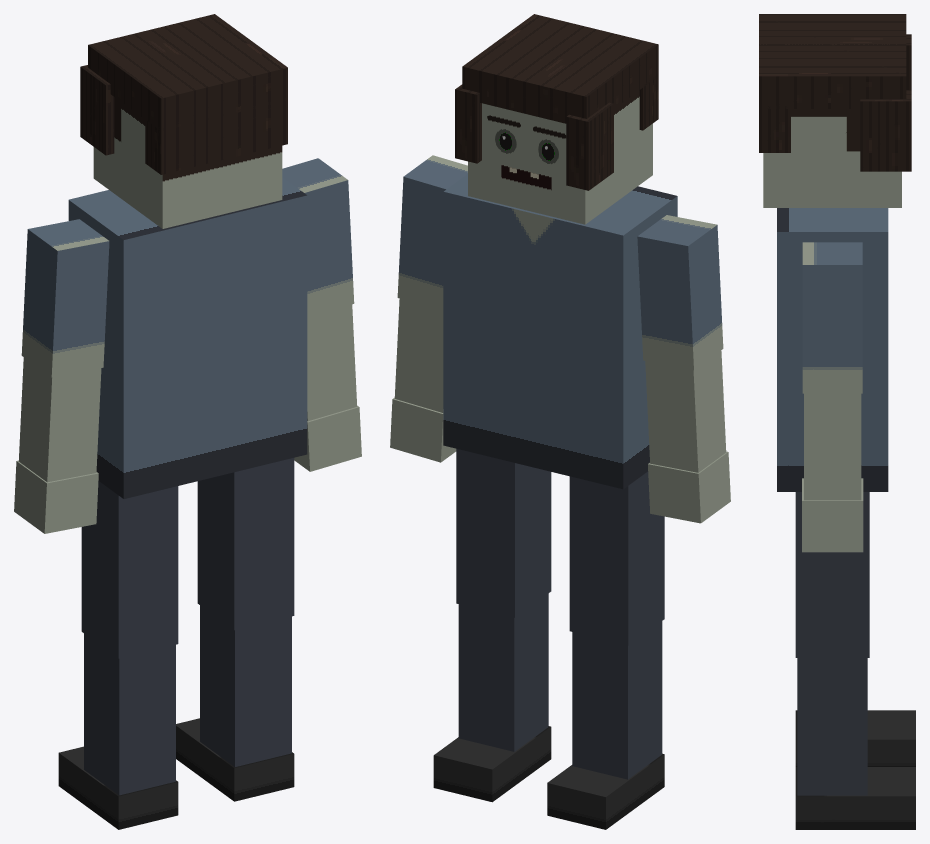
Rendered from hair_curtains.glb.
The picture shows the model from 3 angles, left to right: view 1: azimuth 30°, elevation 25°; view 2: azimuth 150°, elevation 25°; view 3: azimuth 270°, elevation 25°; orthographic projection. The views are drawn at different scales.
Parts seen in each view (by area): view 1: block_torso, block_hair-cap, block_thigh.L, block_thigh.R, block_shin.L, block_shin.R, block_upper_arm.L, block_head, block_forearm.L, block_upper_arm.R, block_hair-back, block_forearm.R (+5 smaller); view 2: block_torso, block_hair-cap, block_thigh.L, block_thigh.R, block_head, block_shin.R, block_shin.L, block_upper_arm.L, block_forearm.L, block_upper_arm.R, block_hair-curtain (×2), block_foot.R (+5 smaller); view 3: block_torso, block_hair-cap, block_head, block_shin.R, block_upper_arm.R, block_thigh.R, block_forearm.R, block_foot.R, block_hair-curtain (×2), block_hand.R, block_foot.L, block_hair-back.
Part boxes in pixels (<box>): block_torso: <box>68,177,307,498</box>; block_hair-cap: <box>88,14,287,130</box>; block_thigh.L: <box>81,481,178,658</box>; block_thigh.R: <box>197,458,294,630</box>; block_shin.L: <box>84,633,175,795</box>; block_shin.R: <box>200,605,291,766</box>; block_upper_arm.L: <box>21,219,109,377</box>; block_head: <box>93,97,282,228</box>; block_forearm.L: <box>18,357,101,482</box>; block_upper_arm.R: <box>282,158,354,317</box>; block_hair-back: <box>145,98,287,174</box>; block_forearm.R: <box>307,304,357,421</box>; block_torso: <box>443,174,677,489</box>; block_hair-cap: <box>462,14,658,123</box>; block_thigh.L: <box>569,471,664,645</box>; block_thigh.R: <box>456,448,551,617</box>; block_head: <box>468,90,652,224</box>; block_shin.R: <box>458,593,548,751</box>; block_shin.L: <box>572,621,662,779</box>; block_upper_arm.L: <box>637,215,723,369</box>; block_forearm.L: <box>645,350,726,472</box>; block_upper_arm.R: <box>397,155,467,311</box>; block_hair-curtain (×2): <box>455,84,613,190</box>; block_foot.R: <box>433,726,551,802</box>; block_torso: <box>777,208,888,491</box>; block_hair-cap: <box>759,14,906,108</box>; block_head: <box>763,109,901,207</box>; block_shin.R: <box>797,658,867,795</box>; block_upper_arm.R: <box>802,242,862,393</box>; block_thigh.R: <box>795,492,869,657</box>; block_forearm.R: <box>804,393,861,500</box>; block_foot.R: <box>795,767,915,829</box>; block_hair-curtain (×2): <box>860,34,911,171</box>; block_hand.R: <box>802,478,863,552</box>; block_foot.L: <box>795,710,915,766</box>; block_hair-back: <box>759,106,790,152</box>.
Size of the model in its own units: 0.7948 by 1.77 by 0.339.
1 material, 1 textured.
